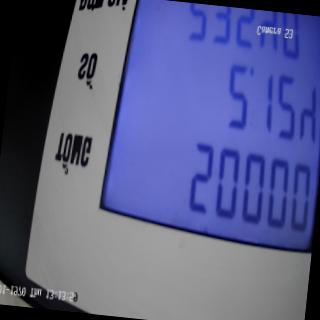screen: (90, 0, 320, 256)
